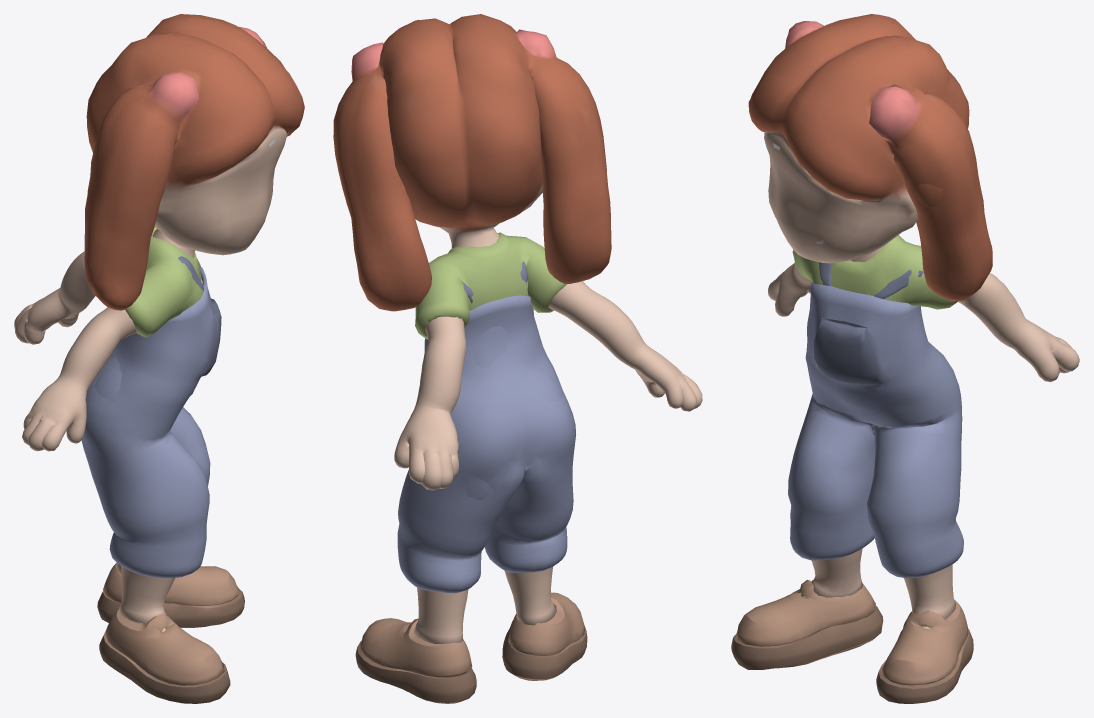
3 renders of one model, left to right at view 1: azimuth 30°, elevation 25°; view 2: azimuth 150°, elevation 25°; view 3: azimuth 270°, elevation 25°, orthographic. The views are drawn at different scales.
Visible parts, largest first — view 1: Arms.019; view 2: Arms.019; view 3: Arms.019.
Part boxes in pixels (x1,y1,x2,y2): Arms.019: (14,14,304,703); Arms.019: (333,14,702,703); Arms.019: (731,14,1079,703).
Size of the model in its own units: 80.04 by 160 by 77.73.
